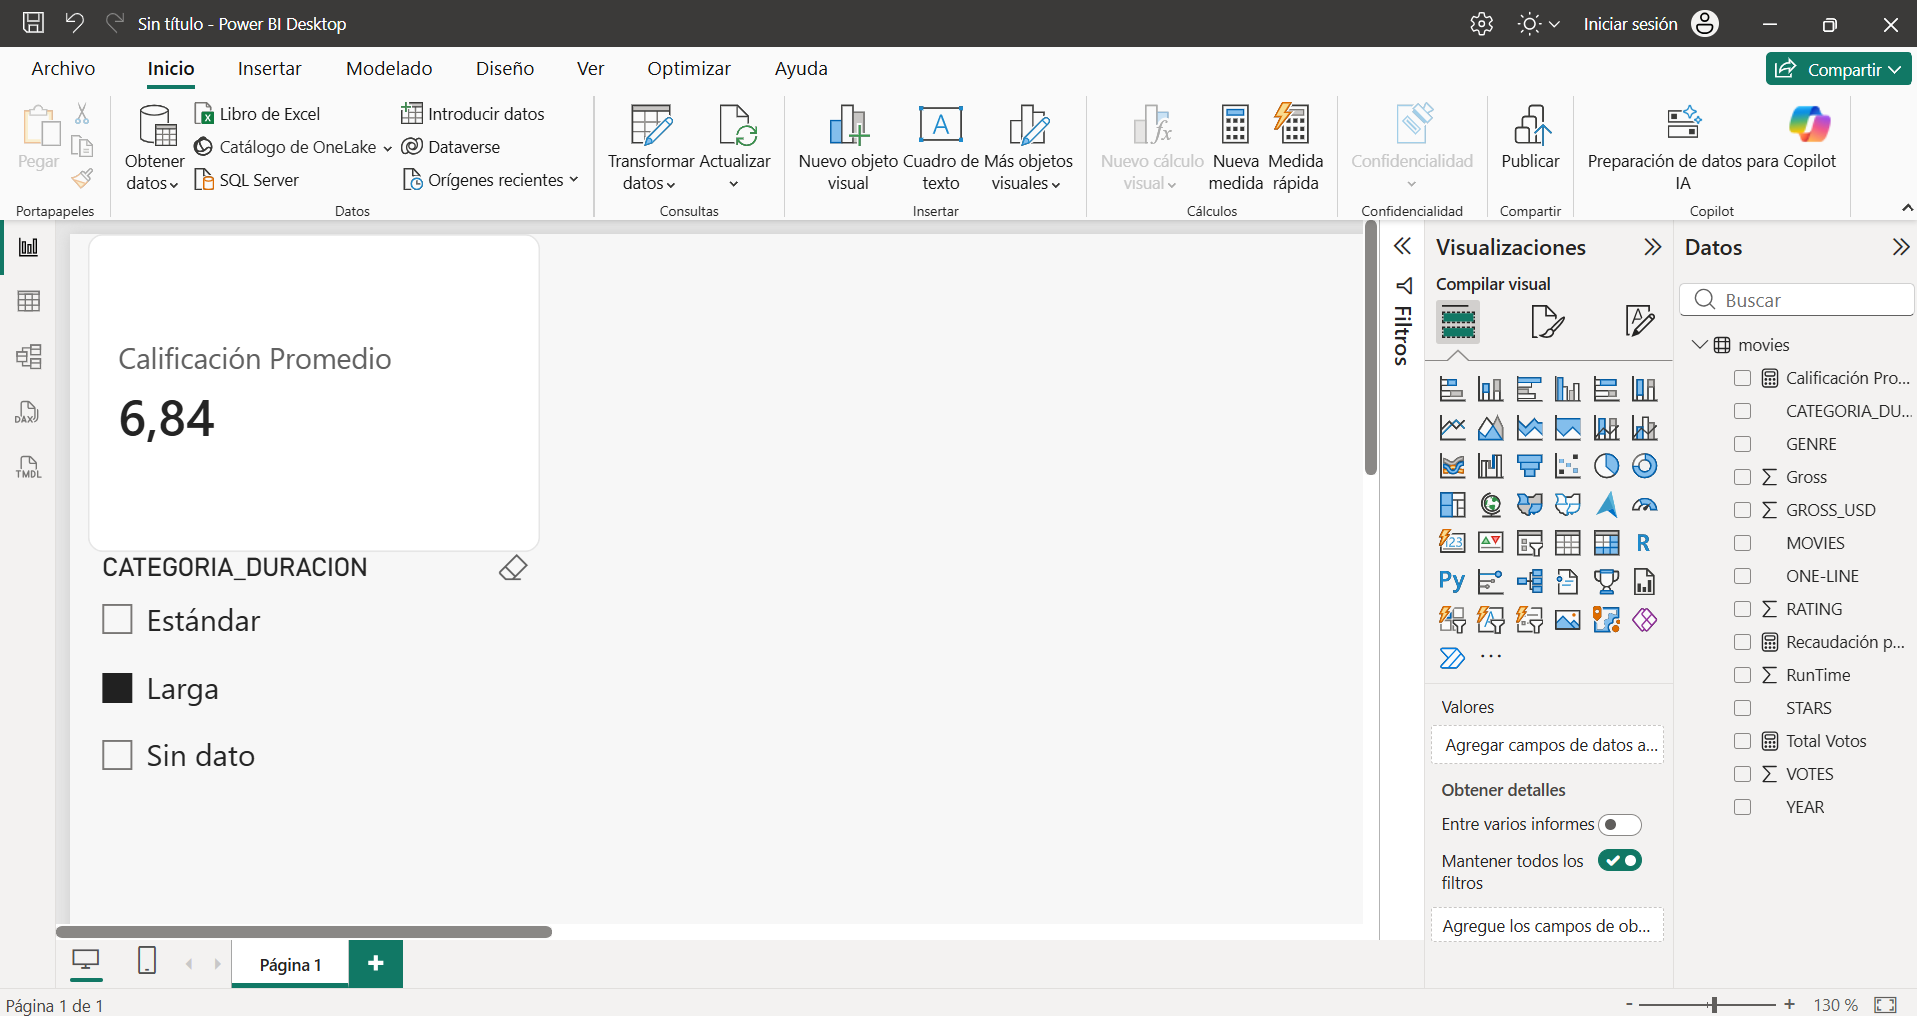

What the dashboard file says about the page in this screenshot:
{"tool":"powerbi","page":{"name":"Página 1","canvas":[1920,1080],"ordinal":0},"visuals":[{"type":"cardVisual","fields":{"Data":["movies.Calificación Promedio"]},"box":[10,0,253.8,178.5],"z":0},{"type":"slicer","fields":{"Values":["movies.CATEGORIA_DURACION"]},"box":[10,178.5,254,178],"z":1}]}

Visuals, with their boxes on the page's 1920x1080 design canvas (x1, y1, x2, y2). These are canvas units, not pixel positions in the 1917x1016 screenshot, which may show the page scaled, cropped or inside an application window:
cardVisual - movies.Calificación Promedio: {"left": 10, "top": 0, "right": 264, "bottom": 178}
slicer - movies.CATEGORIA_DURACION: {"left": 10, "top": 178, "right": 264, "bottom": 356}
